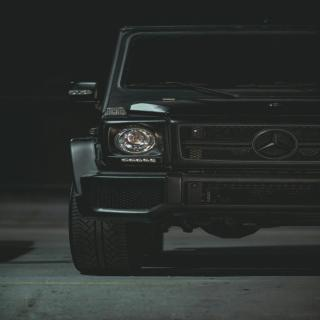Normal_vehicle: (62, 22, 320, 278)
